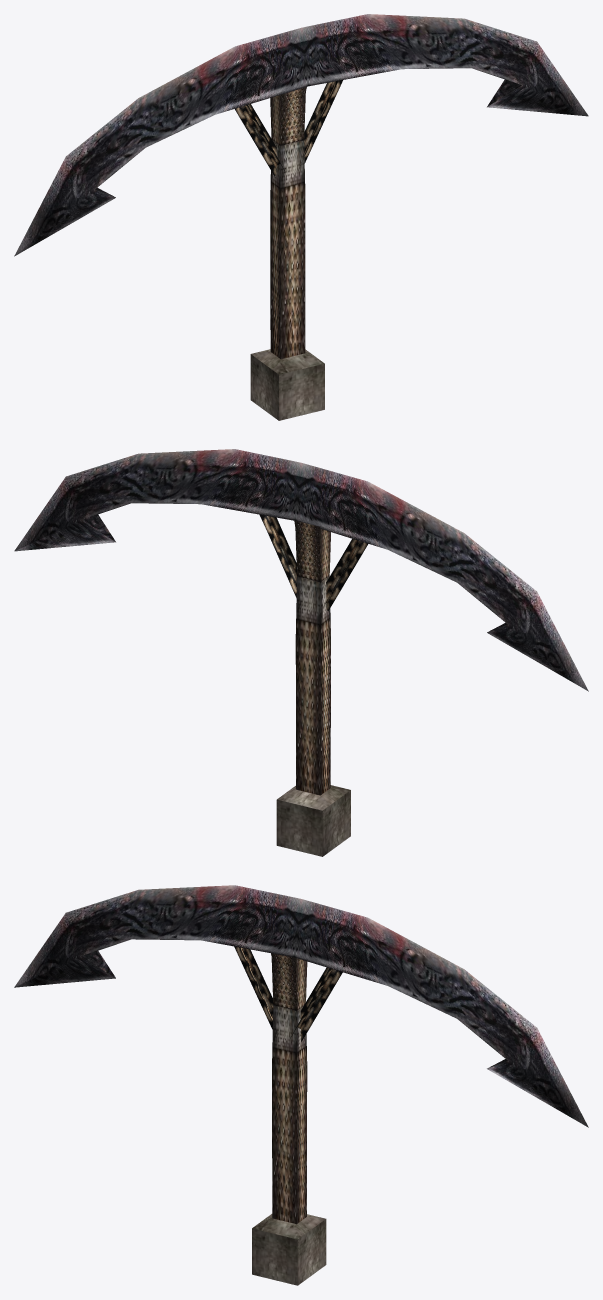
File: knife01.FBX
3 renders of one model, top to bottom at view 1: azimuth 30°, elevation 25°; view 2: azimuth 150°, elevation 25°; view 3: azimuth 330°, elevation 25°, orthographic.
Visible parts, largest first — view 1: knife01, knife02; view 2: knife01, knife02; view 3: knife01, knife02.
Boxes of the visible parts, bbox=[...] form: knife01: bbox=[14, 14, 588, 256]; knife02: bbox=[250, 87, 324, 420]; knife01: bbox=[14, 449, 588, 691]; knife02: bbox=[276, 520, 350, 856]; knife01: bbox=[14, 885, 588, 1127]; knife02: bbox=[252, 953, 326, 1285].
Size of the model in its own units: 940 by 585 by 80.42.
Materials: 3 (3 with a texture image).
